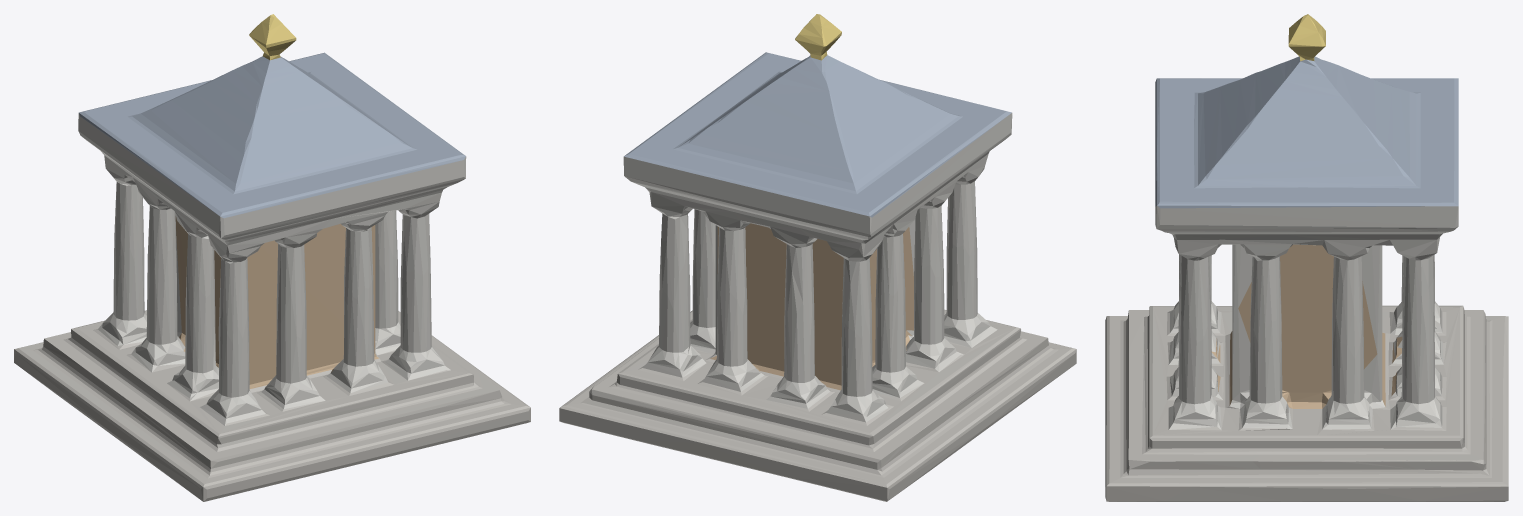
3 views of the same model, side by side, from view 1: azimuth 30°, elevation 25°; view 2: azimuth 150°, elevation 25°; view 3: azimuth 270°, elevation 25° (orthographic). The views are drawn at different scales.
Parts seen in each view (by area): view 1: geometry_0; view 2: geometry_0; view 3: geometry_0.
Part boxes in pixels (left/top/right/bottom): geometry_0: left=14, top=14, right=530, bottom=501; geometry_0: left=559, top=14, right=1076, bottom=501; geometry_0: left=1105, top=14, right=1508, bottom=501.
Bounding box in the file's own units: 0.9042 × 0.9991 × 0.9043.
